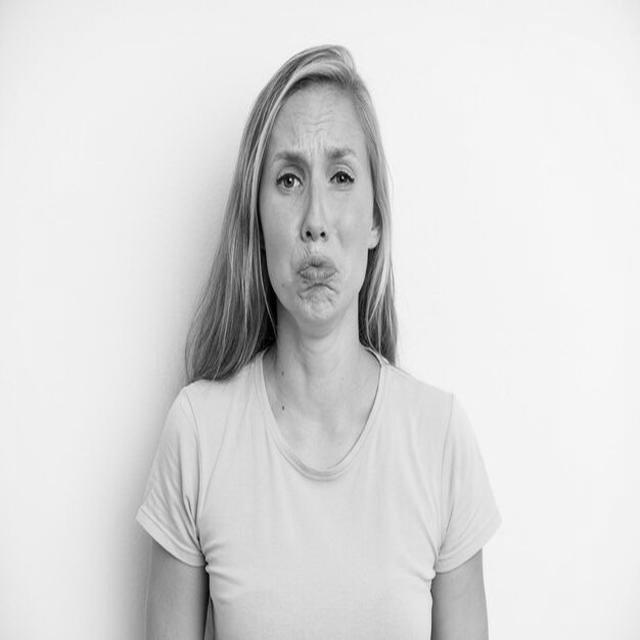Disgust: (260, 83, 374, 326)
